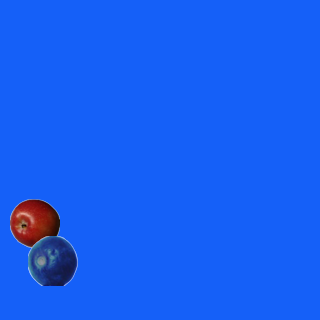Apple Braeburn: (9, 198, 59, 248)
Huckleberry: (27, 235, 77, 285)
